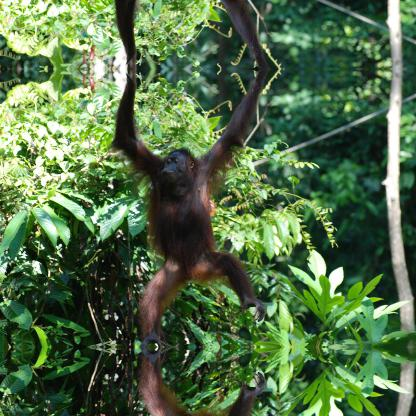Monkey: (118, 122, 272, 340), (117, 352, 273, 415)
